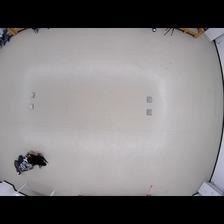fall: (12, 151, 46, 174)
